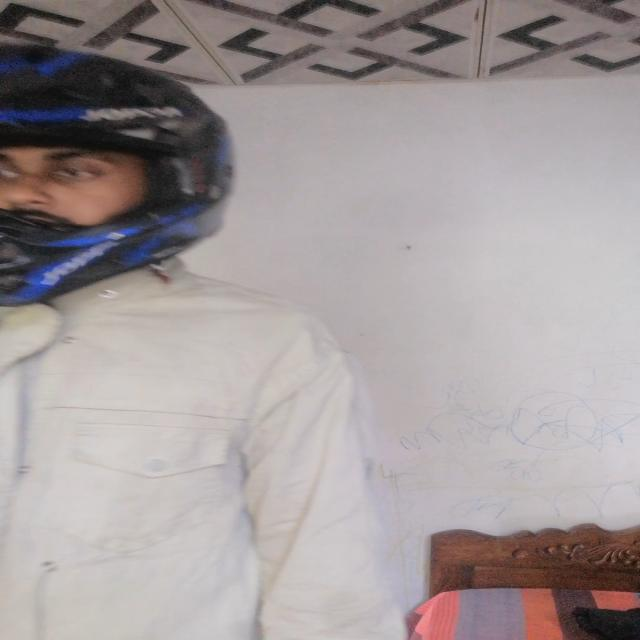Helmet_Wearer: (3, 55, 231, 292)
Jacket_Wearer: (0, 258, 409, 638)
Person: (0, 41, 361, 636)
